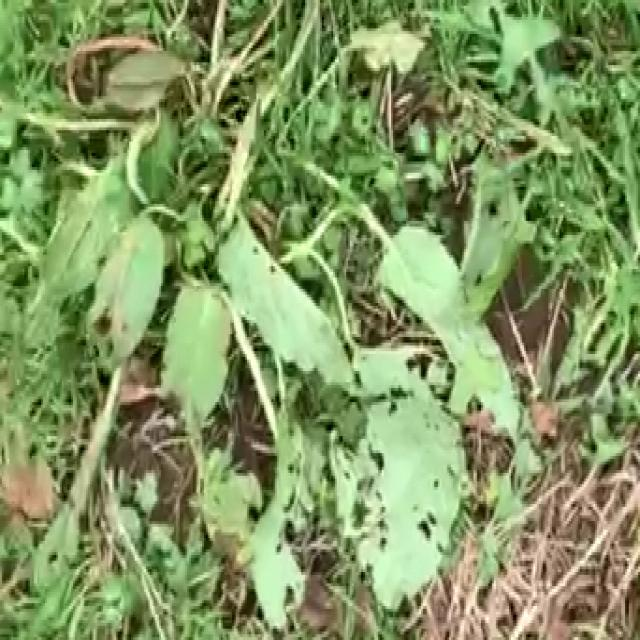organic waste: (36, 74, 560, 586)
